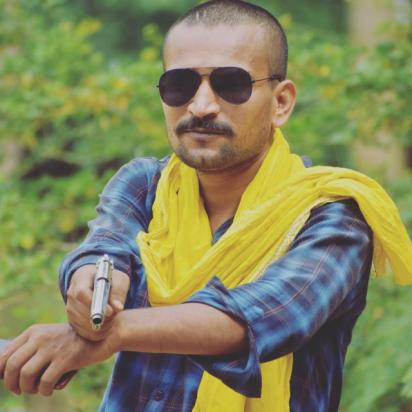Gun: (86, 251, 124, 334)
